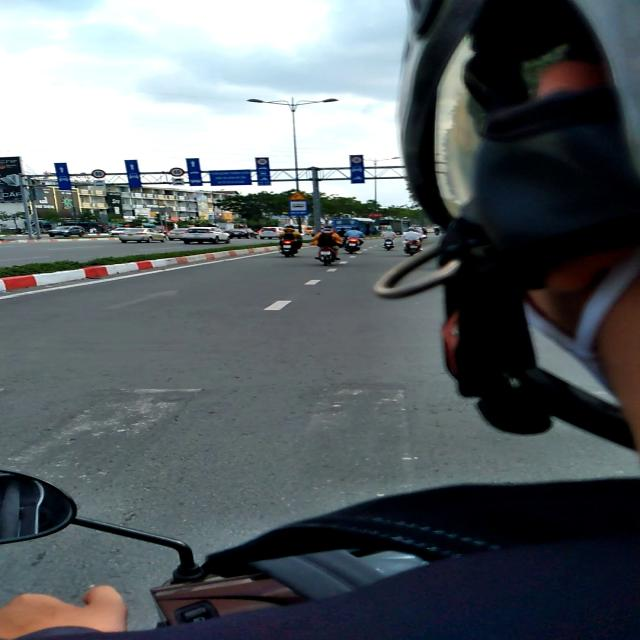Ben xe buyt: (289, 200, 308, 216)
Nguy hiem: (289, 191, 307, 200)
Toc do toi da: (169, 167, 185, 177), (91, 169, 106, 179), (350, 156, 362, 164), (256, 158, 268, 165)
